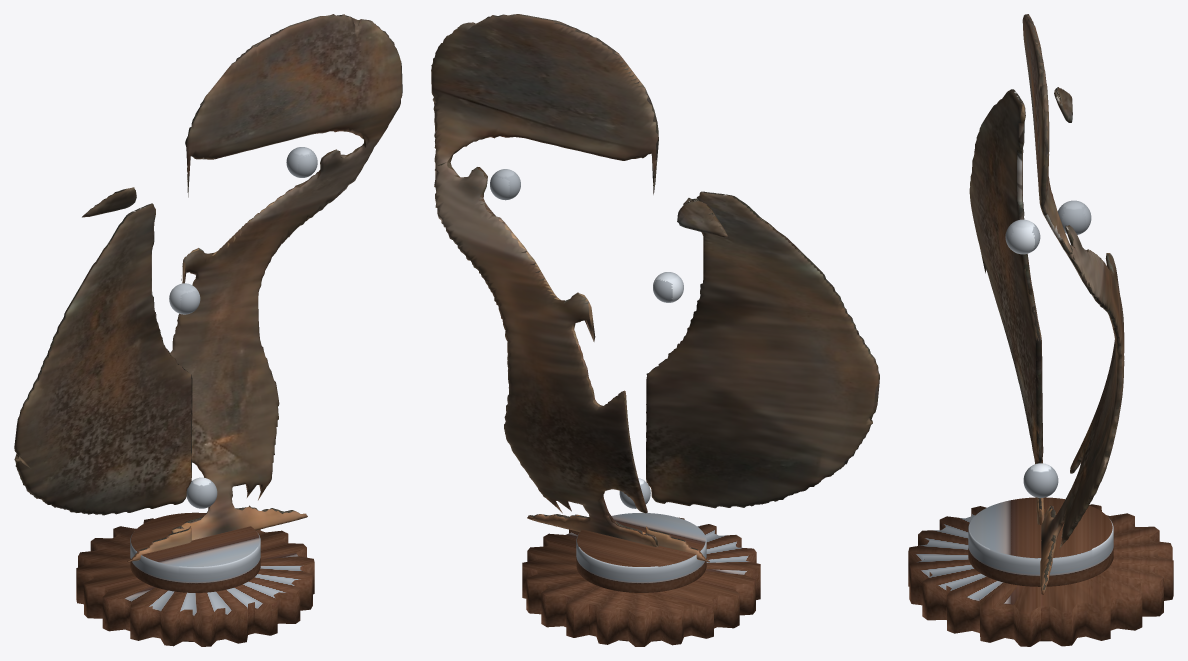
Rendered from escultura-esc-040.glb.
3 views of the same model, side by side, from view 1: azimuth 30°, elevation 25°; view 2: azimuth 150°, elevation 25°; view 3: azimuth 270°, elevation 25° (orthographic). The views are drawn at different scales.
Parts seen in each view (by area): view 1: world; view 2: world; view 3: world.
Boxes of the visible parts, x1,y1,x2,y2 form: world: [14, 14, 402, 646]; world: [431, 14, 879, 646]; world: [908, 14, 1173, 646].
Size of the model in its own units: 0.3459 by 0.4489 by 0.1713.
Materials: 1 (1 with a texture image).
